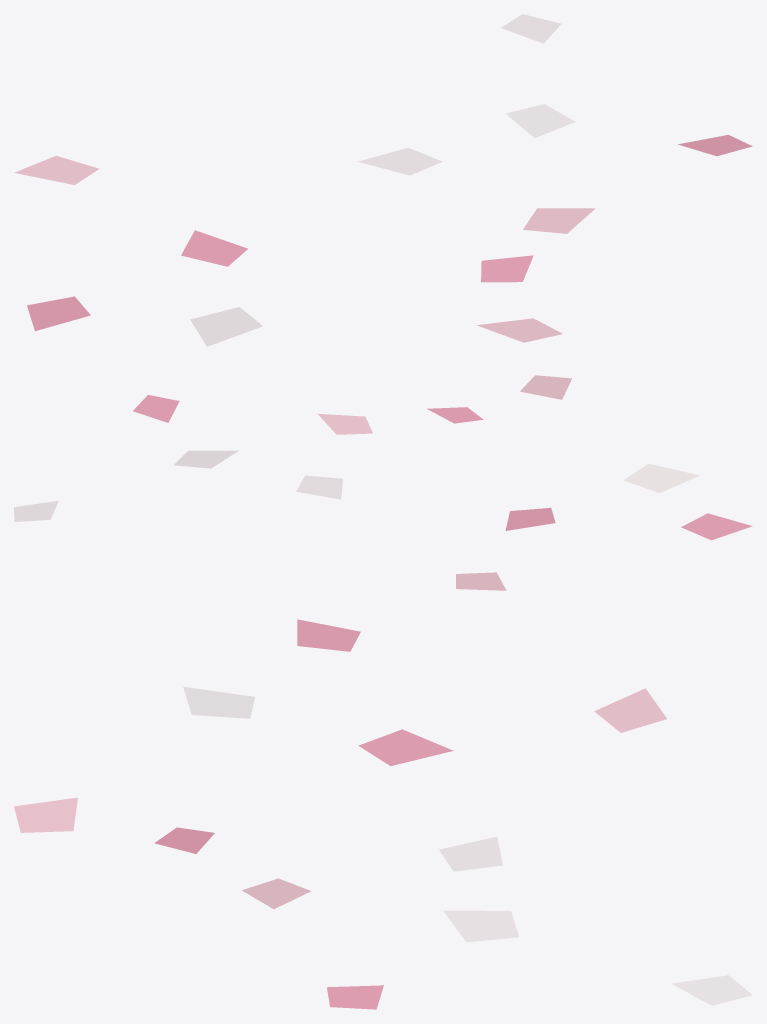
The model's file is petal_litter_b.glb.
The picture shows the model from 3 angles, top to bottom: view 1: azimuth 30°, elevation 25°; view 2: azimuth 150°, elevation 25°; view 3: azimuth 270°, elevation 25°; orthographic projection. The views are drawn at different scales.
Parts seen in each view (by area): view 1: petal_litter_b; view 2: petal_litter_b; view 3: petal_litter_b.
Part boxes in pixels (x1,y1,x2,y2): petal_litter_b: (14, 14, 752, 346); petal_litter_b: (14, 375, 752, 590); petal_litter_b: (14, 619, 752, 1009).
Size of the model in its own units: 1.19 by 0.027 by 0.9698.
